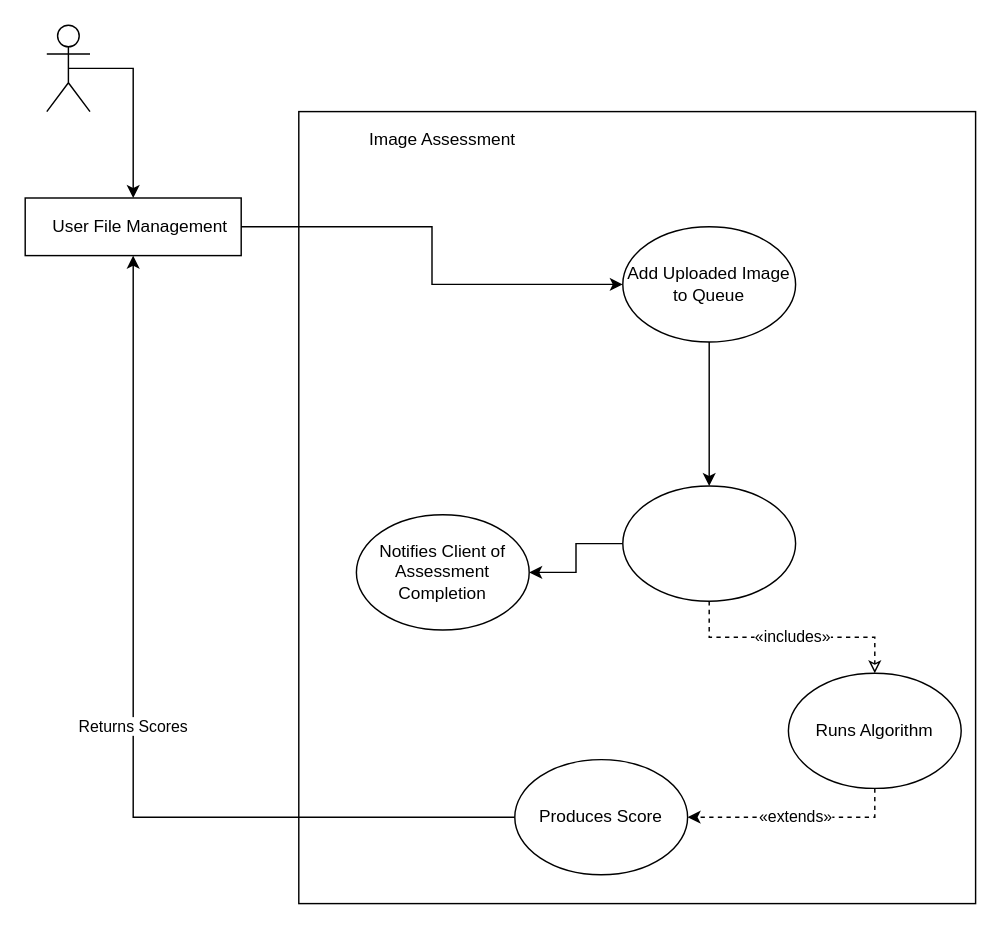
The diagram is 1001 pixels wide and 929 high, and some of its shapes have lost their labels. Here are the shapes that lost their labels. From the top down, the centre of each, then its label:
At (67,68): "User".
At (708,543): "Workers Process Images from Queue".
